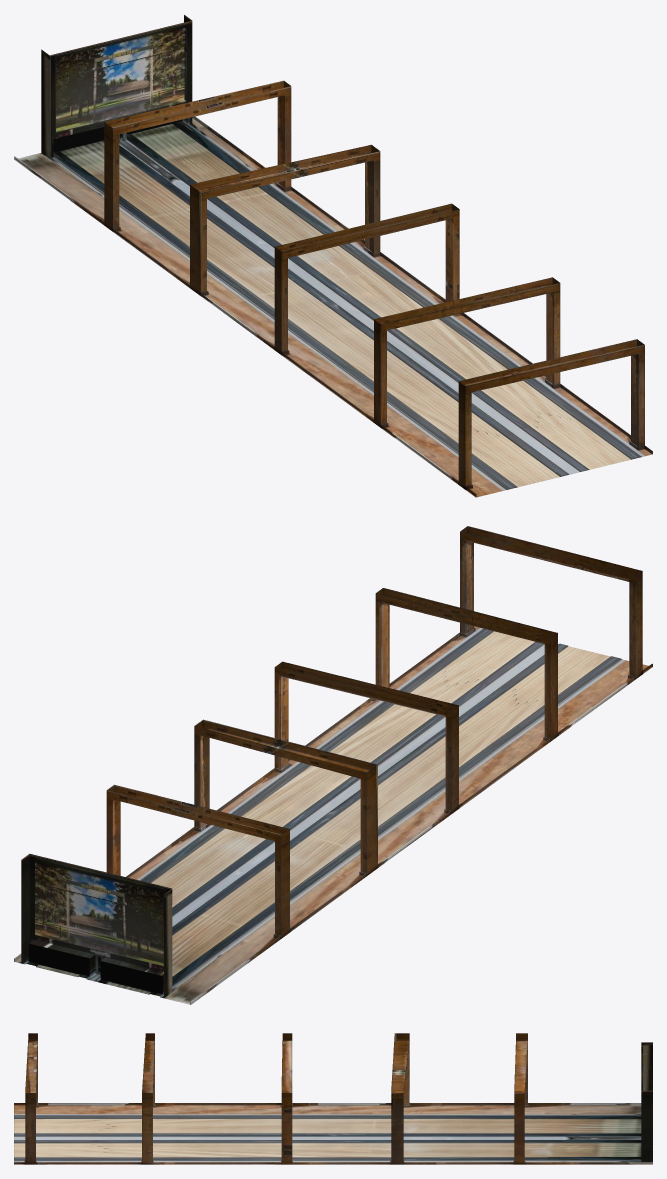
Rendered from bowl_lanes.glb.
3 renders of one model, top to bottom at view 1: azimuth 30°, elevation 25°; view 2: azimuth 150°, elevation 25°; view 3: azimuth 270°, elevation 25°, orthographic. The views are drawn at different scales.
Parts seen in each view (by area): view 1: bowl_lanes; view 2: bowl_lanes; view 3: bowl_lanes.
Boxes of the visible parts, x1,y1,x2,y2 form: bowl_lanes: (14,15,652,497); bowl_lanes: (14,526,652,1004); bowl_lanes: (14,1033,652,1164).
Bounding box in the file's own units: 5.54 × 3.09 × 25.
2 materials, 2 textured.
